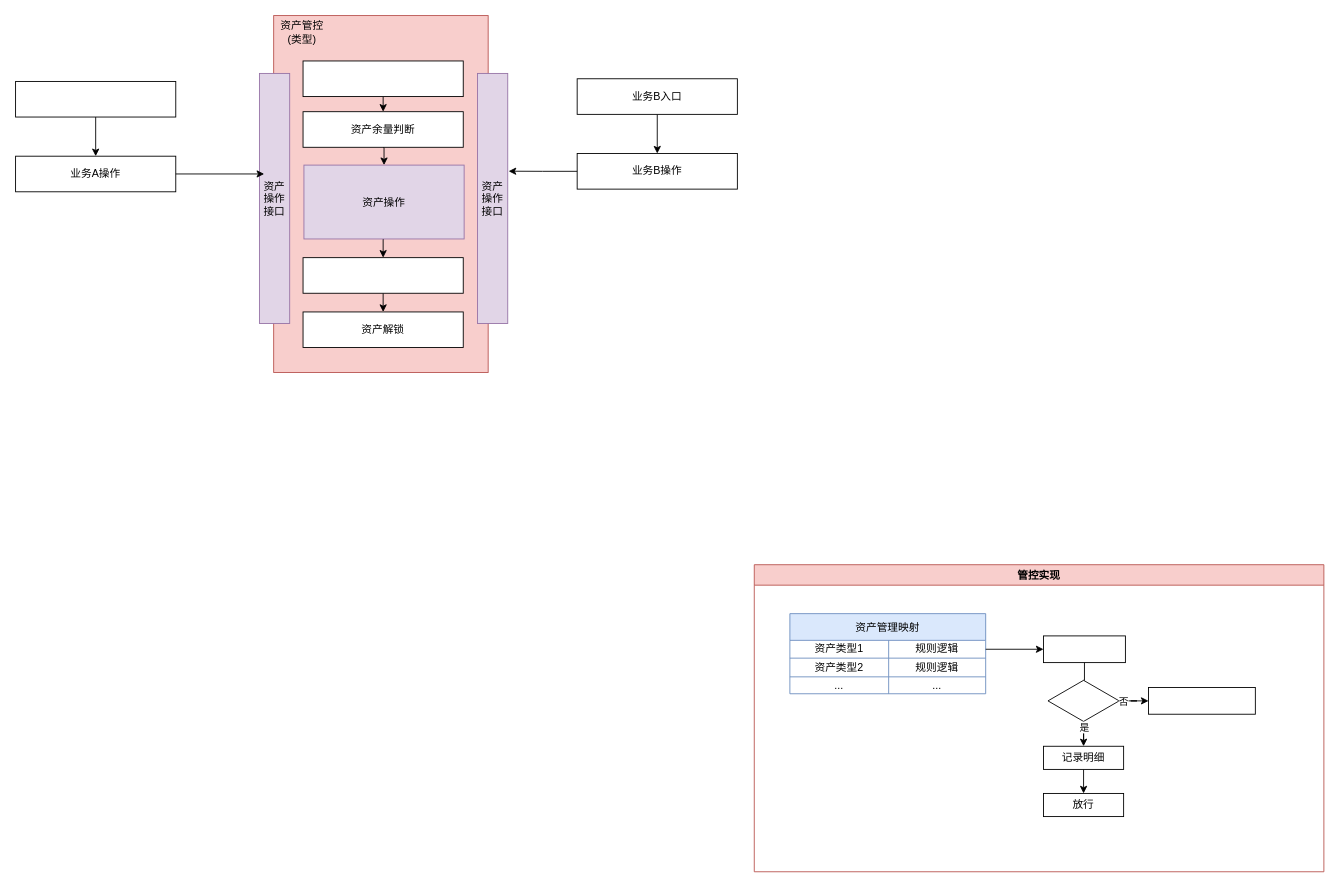
Image size: 1339x887. Some labels were removed from this diagram. The centre of each missing label's shape, as x and y in pixels:
业务A入口: point (95, 99)
异常中断: point (1201, 700)
成功: point (1083, 700)
扣减配额: point (1084, 649)
资产扣除: point (382, 275)
资产锁定(锁粒度:商户+资产类型): point (382, 78)
